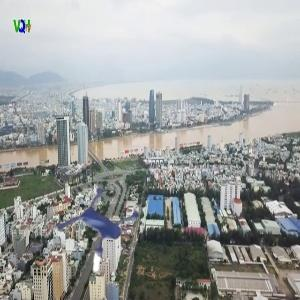drone: (38, 176, 156, 294)
